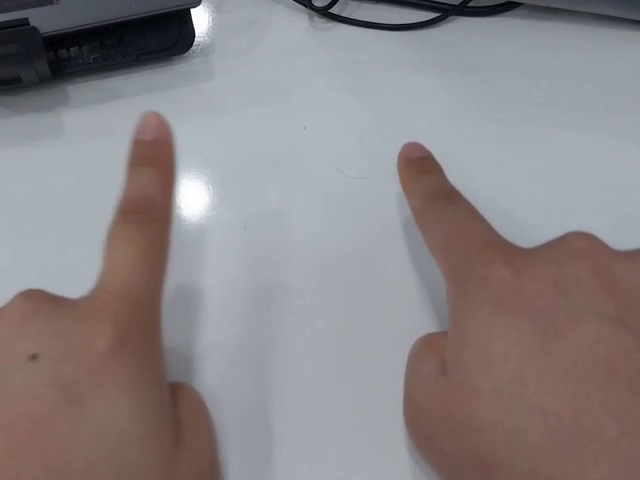fingers: (126, 110, 176, 172), (395, 140, 450, 195)
